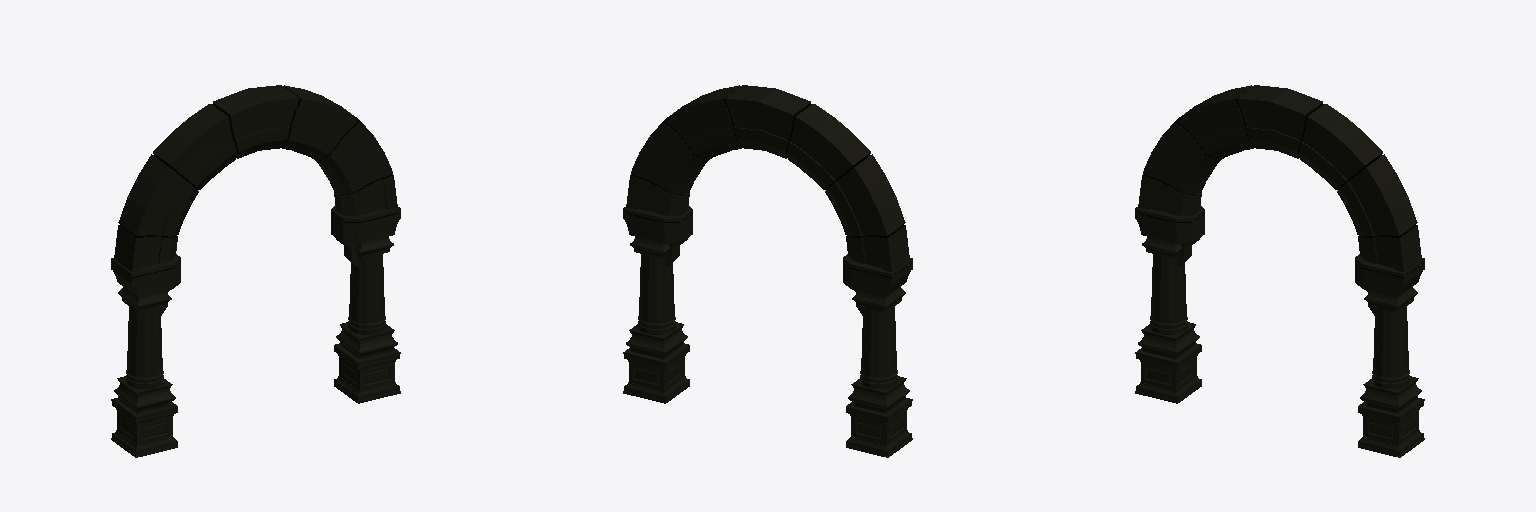
Rendered from Arch_Round_RoundColumn.obj.
The picture shows the model from 3 angles: view 1: azimuth 30°, elevation 25°; view 2: azimuth 150°, elevation 25°; view 3: azimuth 330°, elevation 25°; orthographic projection.
Visible parts, largest first — view 1: Arch_Round_RoundColumn.001; view 2: Arch_Round_RoundColumn.001; view 3: Arch_Round_RoundColumn.001.
Part boxes in pixels (x1,y1,x2,y2): Arch_Round_RoundColumn.001: (111,85,400,457); Arch_Round_RoundColumn.001: (623,85,912,457); Arch_Round_RoundColumn.001: (1135,85,1424,457).
Bounding box in the file's own units: 3.09 × 3.53 × 0.4894.